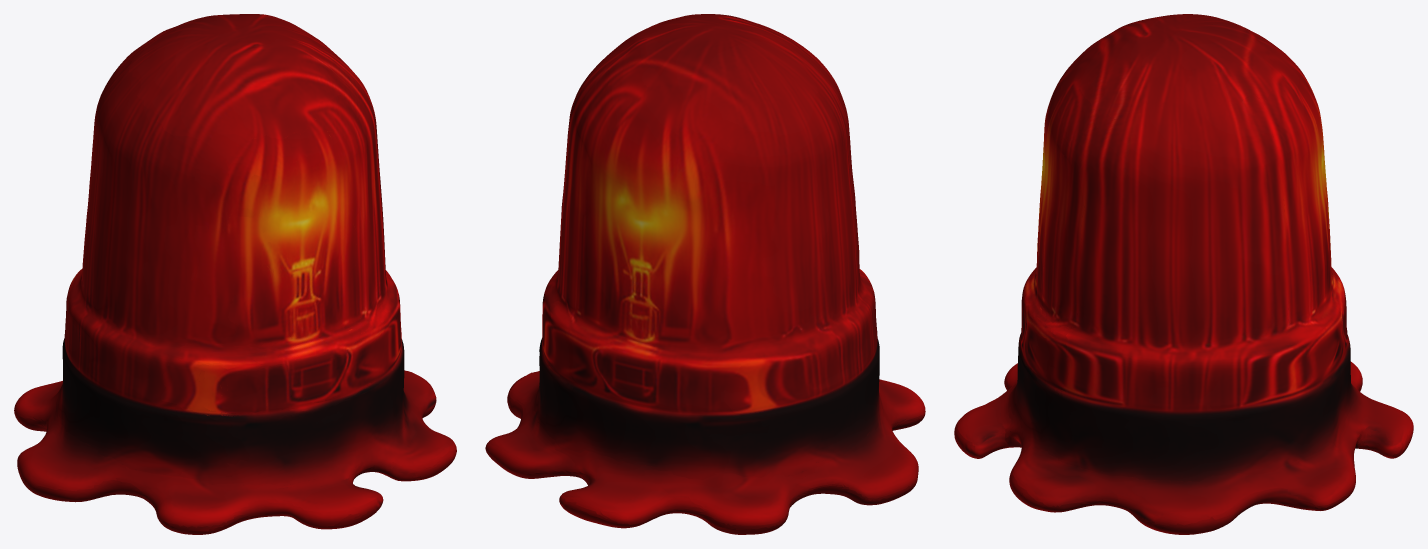
The model's file is sirena.glb.
3 renders of one model, left to right at view 1: azimuth 30°, elevation 25°; view 2: azimuth 150°, elevation 25°; view 3: azimuth 270°, elevation 25°, orthographic.
Parts seen in each view (by area): view 1: tmp4dmski9w.ply; view 2: tmp4dmski9w.ply; view 3: tmp4dmski9w.ply.
Boxes of the visible parts, <box> form: tmp4dmski9w.ply: <box>14,14,456,534</box>; tmp4dmski9w.ply: <box>485,14,925,534</box>; tmp4dmski9w.ply: <box>954,14,1413,534</box>.
Bounding box in the file's own units: 1.96 × 1.96 × 1.95.
Materials: 1 (1 with a texture image).
